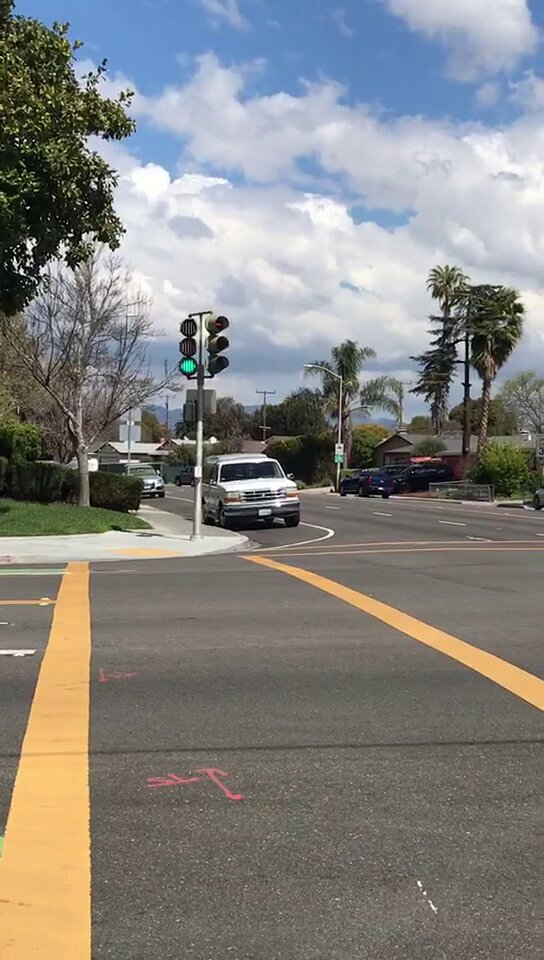green_light: (180, 319, 198, 375)
